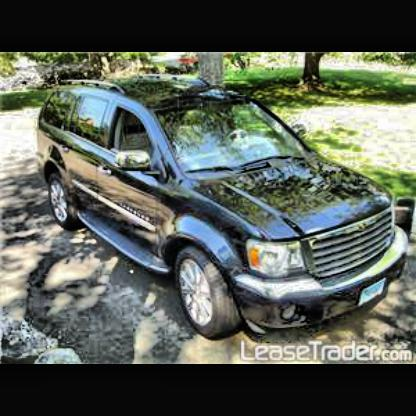Chrysler Aspen SUV 2009: (38, 76, 412, 342)
